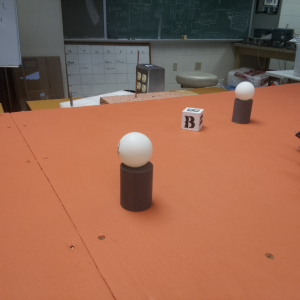blockB: (175, 103, 213, 136)
obstacle: (114, 131, 162, 212), (228, 78, 257, 124)
